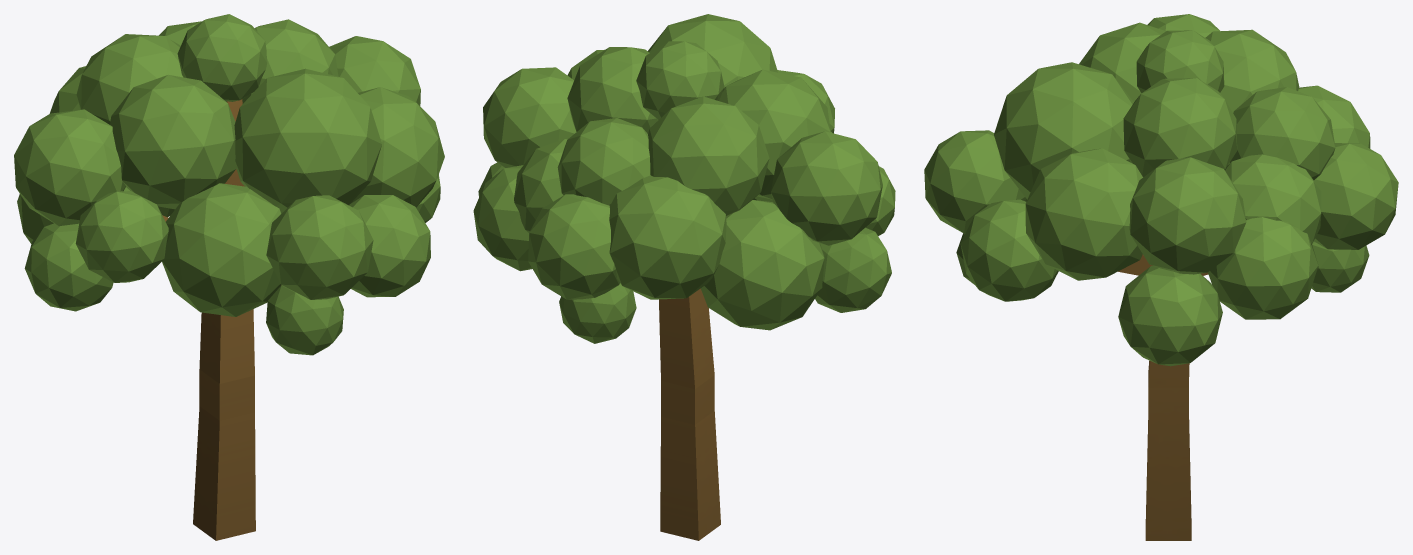
The model's file is oak.glb.
3 renders of one model, left to right at view 1: azimuth 30°, elevation 25°; view 2: azimuth 150°, elevation 25°; view 3: azimuth 270°, elevation 25°, orthographic. The views are drawn at different scales.
Visible parts, largest first — view 1: Icosphere.057, Cube.007; view 2: Icosphere.057, Cube.007; view 3: Icosphere.057, Cube.007.
Part boxes in pixels (x1=…): Icosphere.057: x1=14, y1=14, x2=444, y2=355; Cube.007: x1=162, y1=99, x2=255, y2=540; Icosphere.057: x1=473, y1=14, x2=895, y2=343; Cube.007: x1=659, y1=288, x2=720, y2=540; Icosphere.057: x1=924, y1=14, x2=1398, y2=366; Cube.007: x1=1118, y1=254, x2=1208, y2=540.
Bounding box in the file's own units: 23.21 × 27.33 × 23.48.
2 materials, 2 textured.
